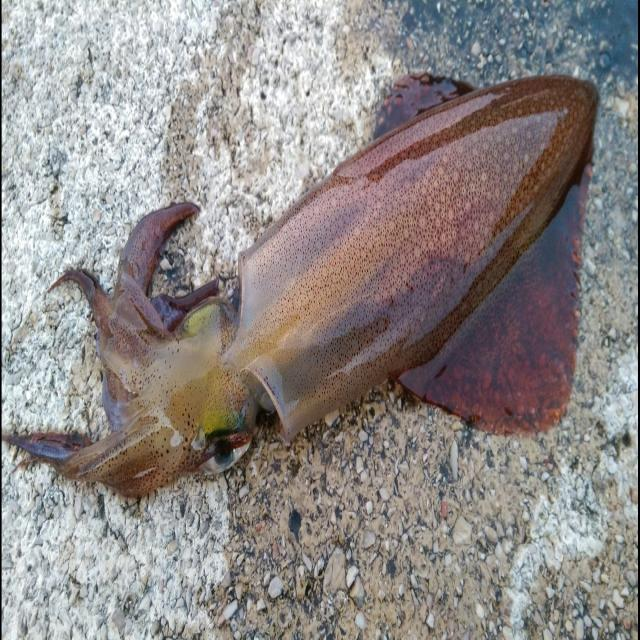SQUID: (28, 36, 606, 528)
